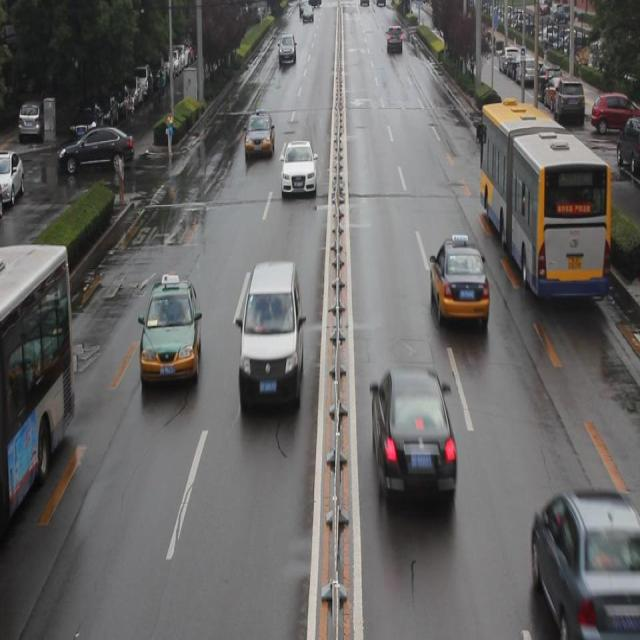car: (529, 481, 640, 633), (369, 366, 455, 517), (138, 278, 202, 388), (428, 234, 486, 328), (281, 140, 317, 198), (244, 112, 274, 164)
truck: (238, 262, 302, 410)
van: (477, 103, 610, 299), (1, 245, 74, 523)
